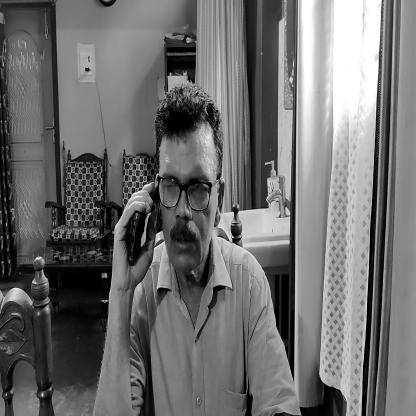Normal: (150, 67, 223, 290)
